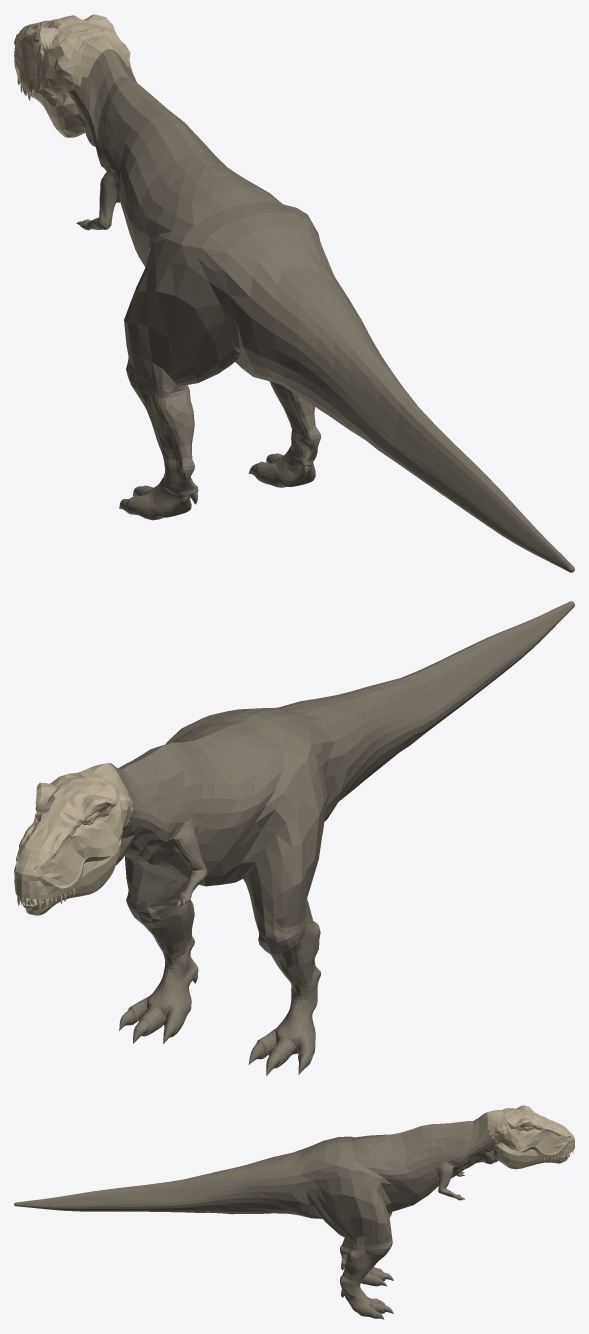
File: T-Rex.obj
3 renders of one model, top to bottom at view 1: azimuth 30°, elevation 25°; view 2: azimuth 150°, elevation 25°; view 3: azimuth 270°, elevation 25°, orthographic. The views are drawn at different scales.
Visible parts, largest first — view 1: WAIST, KNEE_LEFT, HIP_LEFT, HEAD, TORSO, NECK, HIP_RIGHT, ANKLE_LEFT, FOOT_LEFT, ANKLE_RIGHT, FOOT_RIGHT, ELBOW_LEFT; view 2: WAIST, HEAD, KNEE_LEFT, TORSO, NECK, HIP_LEFT, ANKLE_LEFT, ANKLE_RIGHT, FOOT_RIGHT, FOOT_LEFT, HIP_RIGHT, KNEE_RIGHT (+2 smaller); view 3: WAIST, KNEE_RIGHT, HEAD, HIP_RIGHT, TORSO, NECK, ANKLE_RIGHT, HIP_LEFT, FOOT_RIGHT, ELBOW_RIGHT, FOOT_LEFT.
Part boxes in pixels (x1,y1,x2,y2): WAIST: (136,153,574,572); KNEE_LEFT: (124,239,267,391); HIP_LEFT: (167,215,325,321); HEAD: (14,14,132,137); TORSO: (119,113,230,267); NECK: (70,49,175,168); HIP_RIGHT: (237,202,350,386); ANKLE_LEFT: (126,358,197,489); FOOT_LEFT: (119,473,198,520); ANKLE_RIGHT: (269,381,321,461); FOOT_RIGHT: (248,445,317,487); ELBOW_LEFT: (99,167,123,224); WAIST: (165,601,574,886); HEAD: (14,763,133,915); KNEE_LEFT: (236,768,347,928); TORSO: (138,740,250,886); NECK: (108,746,185,864); HIP_LEFT: (255,700,350,801); ANKLE_LEFT: (255,900,321,1003); ANKLE_RIGHT: (126,888,197,973); FOOT_RIGHT: (119,967,198,1043); FOOT_LEFT: (248,995,317,1076); HIP_RIGHT: (167,698,359,805); KNEE_RIGHT: (124,856,187,900); WAIST: (14,1133,412,1214); KNEE_RIGHT: (288,1171,392,1245); HEAD: (487,1105,574,1169); HIP_RIGHT: (262,1142,365,1194); TORSO: (391,1124,440,1204); NECK: (431,1112,497,1177); ANKLE_RIGHT: (340,1237,392,1293); HIP_LEFT: (262,1136,354,1215); FOOT_RIGHT: (341,1288,393,1319); ELBOW_RIGHT: (429,1161,454,1189); FOOT_LEFT: (341,1262,393,1286).
Size of the model in its own units: 2.24 by 4.25 by 11.57.
